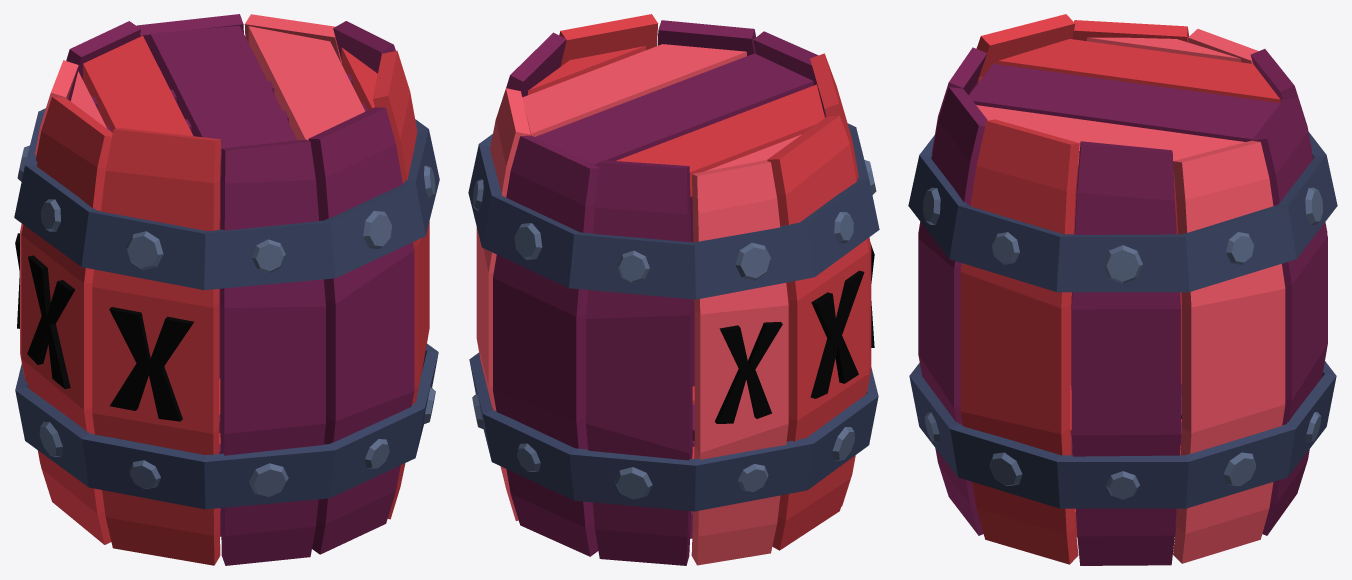
The model's file is Barrel 2_3b.fbx.
3 views of the same model, side by side, from view 1: azimuth 30°, elevation 25°; view 2: azimuth 150°, elevation 25°; view 3: azimuth 270°, elevation 25° (orthographic). The views are drawn at different scales.
Parts seen in each view (by area): view 1: Barrel 2_3b.008, Barrel 2_3b.009, Barrel 2_3b.002, Barrel 2_3b.003, Barrel 2_3b.010, Barrel 2_3b.004, Barrel 2_3b.007, Barrel 2_3b.011, Barrel 2_3b.012, Barrel 2_3b.001, Barrel 2_3b.005, Barrel 2_3b.013 (+1 smaller); view 2: Barrel 2_3b.001, Barrel 2_3b.002, Barrel 2_3b.006, Barrel 2_3b.003, Barrel 2_3b.005, Barrel 2_3b.007, Barrel 2_3b.004, Barrel 2_3b.013, Barrel 2_3b.011, Barrel 2_3b.010, Barrel 2_3b.008, Barrel 2_3b.012 (+1 smaller); view 3: Barrel 2_3b.011, Barrel 2_3b.012, Barrel 2_3b.013, Barrel 2_3b.002, Barrel 2_3b.003, Barrel 2_3b.004, Barrel 2_3b.010, Barrel 2_3b.005, Barrel 2_3b.008, Barrel 2_3b.007, Barrel 2_3b.001, Barrel 2_3b.009 (+1 smaller).
Boxes of the visible parts, x1=… form: Barrel 2_3b.008: x1=92, y1=128, x2=220, y2=565; Barrel 2_3b.009: x1=220, y1=139, x2=325, y2=565; Barrel 2_3b.002: x1=70, y1=25, x2=377, y2=185; Barrel 2_3b.003: x1=14, y1=108, x2=439, y2=289; Barrel 2_3b.010: x1=308, y1=107, x2=414, y2=554; Barrel 2_3b.004: x1=15, y1=343, x2=438, y2=509; Barrel 2_3b.007: x1=21, y1=96, x2=112, y2=544; Barrel 2_3b.011: x1=373, y1=50, x2=429, y2=519; Barrel 2_3b.012: x1=333, y1=21, x2=395, y2=73; Barrel 2_3b.001: x1=66, y1=21, x2=140, y2=101; Barrel 2_3b.005: x1=137, y1=14, x2=243, y2=378; Barrel 2_3b.013: x1=244, y1=14, x2=341, y2=63; Barrel 2_3b.001: x1=586, y1=160, x2=692, y2=565; Barrel 2_3b.002: x1=522, y1=44, x2=824, y2=196; Barrel 2_3b.006: x1=691, y1=160, x2=788, y2=565; Barrel 2_3b.003: x1=468, y1=123, x2=879, y2=299; Barrel 2_3b.005: x1=493, y1=135, x2=599, y2=556; Barrel 2_3b.007: x1=767, y1=115, x2=868, y2=550; Barrel 2_3b.004: x1=469, y1=352, x2=878, y2=511; Barrel 2_3b.013: x1=476, y1=88, x2=530, y2=520; Barrel 2_3b.011: x1=559, y1=14, x2=658, y2=66; Barrel 2_3b.010: x1=657, y1=20, x2=755, y2=386; Barrel 2_3b.008: x1=810, y1=53, x2=874, y2=506; Barrel 2_3b.012: x1=506, y1=32, x2=566, y2=97; Barrel 2_3b.011: x1=960, y1=119, x2=1079, y2=564; Barrel 2_3b.012: x1=1071, y1=141, x2=1180, y2=565; Barrel 2_3b.013: x1=1173, y1=140, x2=1285, y2=563; Barrel 2_3b.002: x1=968, y1=37, x2=1280, y2=190; Barrel 2_3b.003: x1=908, y1=132, x2=1337, y2=292; Barrel 2_3b.004: x1=909, y1=361, x2=1336, y2=508; Barrel 2_3b.010: x1=918, y1=87, x2=987, y2=535; Barrel 2_3b.005: x1=1252, y1=97, x2=1327, y2=535; Barrel 2_3b.008: x1=976, y1=14, x2=1075, y2=82; Barrel 2_3b.007: x1=1070, y1=20, x2=1189, y2=386; Barrel 2_3b.001: x1=1250, y1=49, x2=1327, y2=232; Barrel 2_3b.009: x1=918, y1=47, x2=987, y2=236.
Size of the model in its own units: 104 by 117 by 108.
